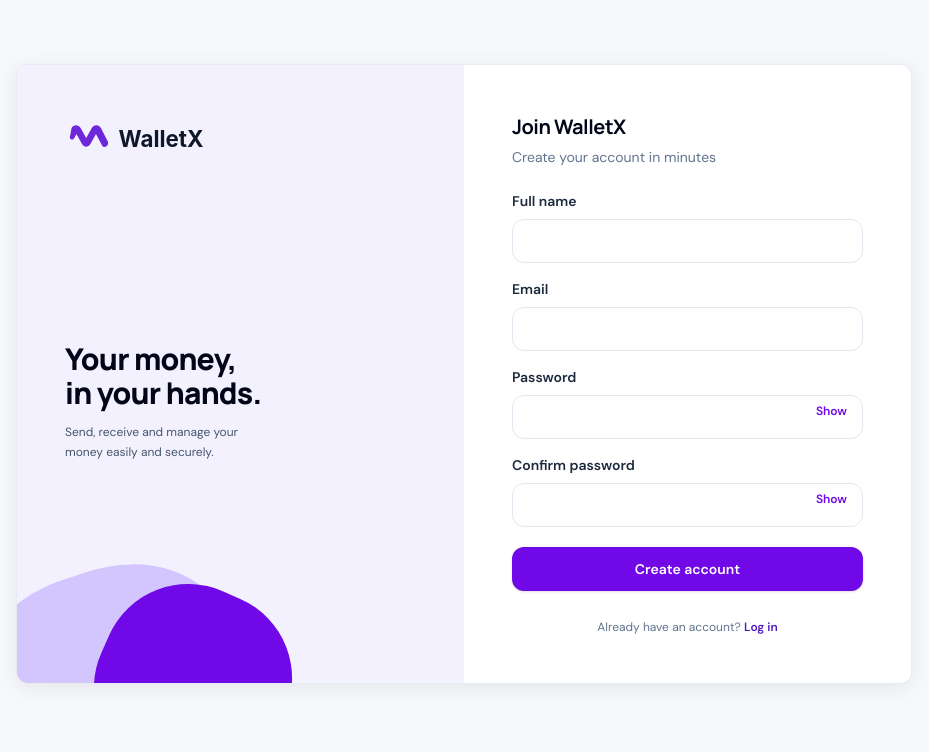
Test: RegisterPage › shows required and matching-password validation errors
Click the button "Create account".
click(688, 569)  # box [512, 547, 863, 591]
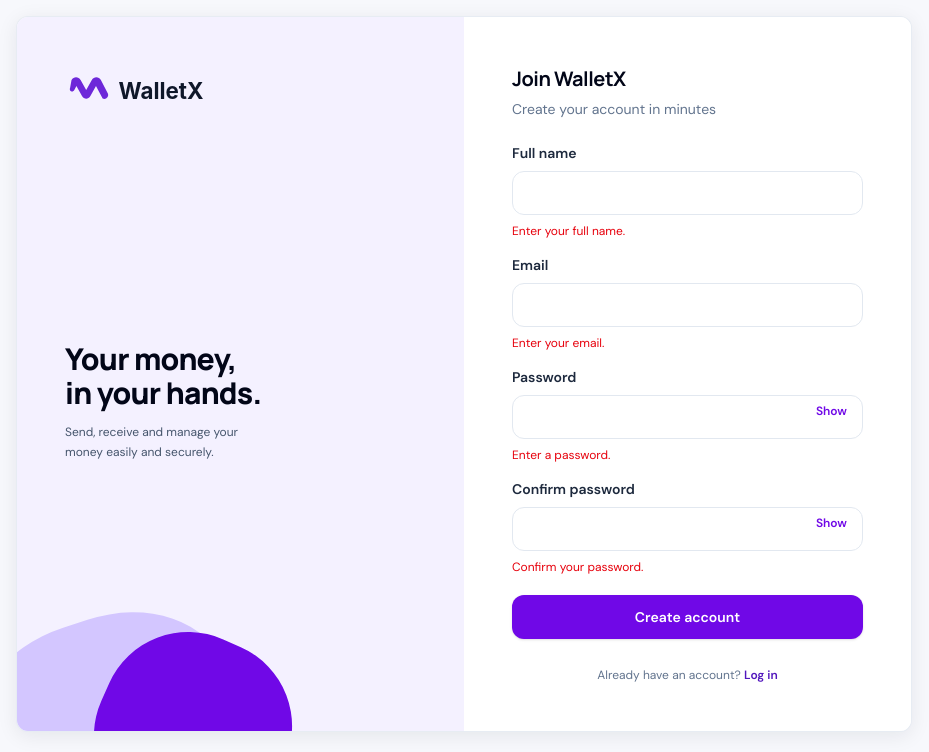
Check: the text "Enter your full name." is shown, box [512, 223, 625, 239]
Check: the text "Enter your email." is shown, box [512, 335, 604, 351]
Check: the text "Enter a password." is shown, box [512, 447, 610, 463]
Type "Kiran" into the field labelled "Full name".
click(688, 193); type("Kiran")  # box [512, 171, 863, 215]
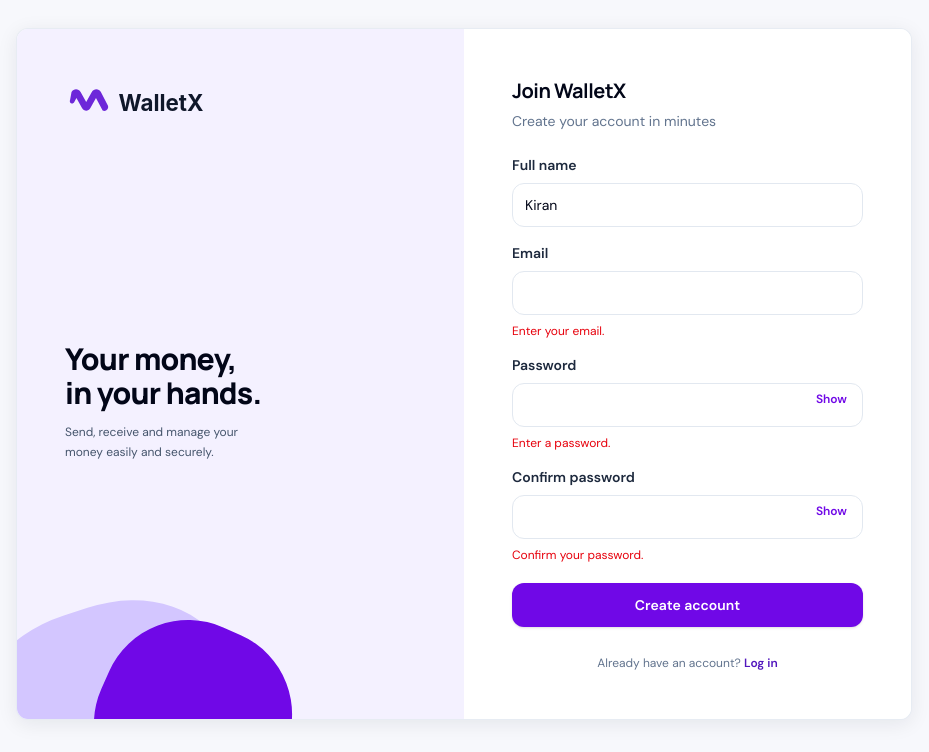
Type "kiran@example.com" into the field labelled "Email".
click(688, 293); type("kiran@example.com")  # box [512, 271, 863, 315]
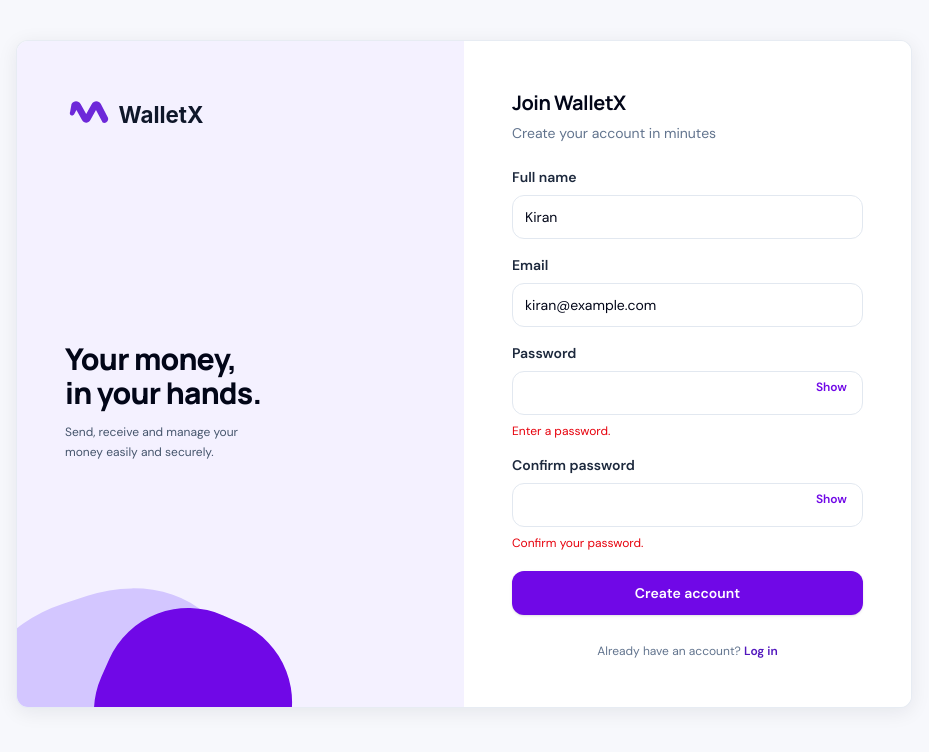
Type "password" into the password field labelled "Password".
click(688, 393); type("password")  # box [512, 371, 863, 415]
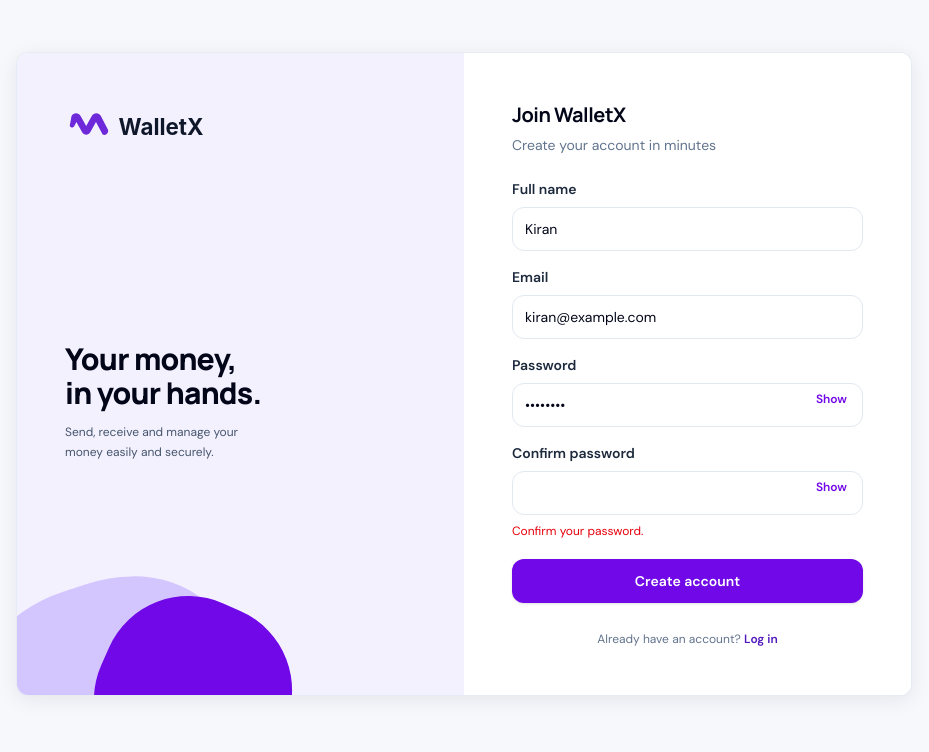
Type "different" into the password field labelled "Confirm password".
click(688, 493); type("different")  # box [512, 471, 863, 515]
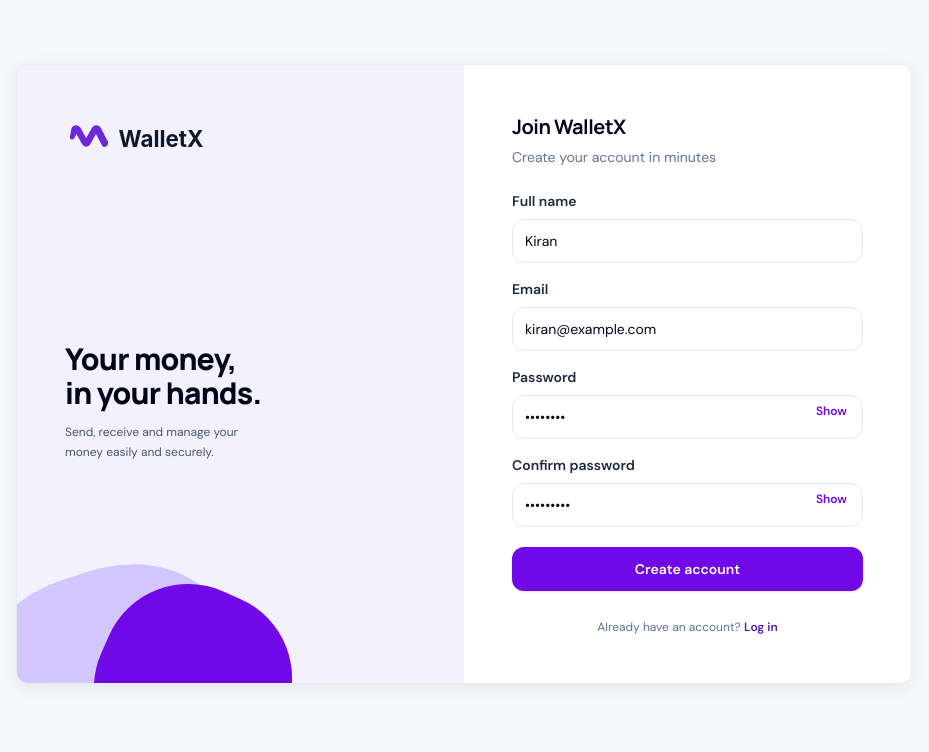
Click the button "Create account".
click(688, 569)  # box [512, 547, 863, 591]
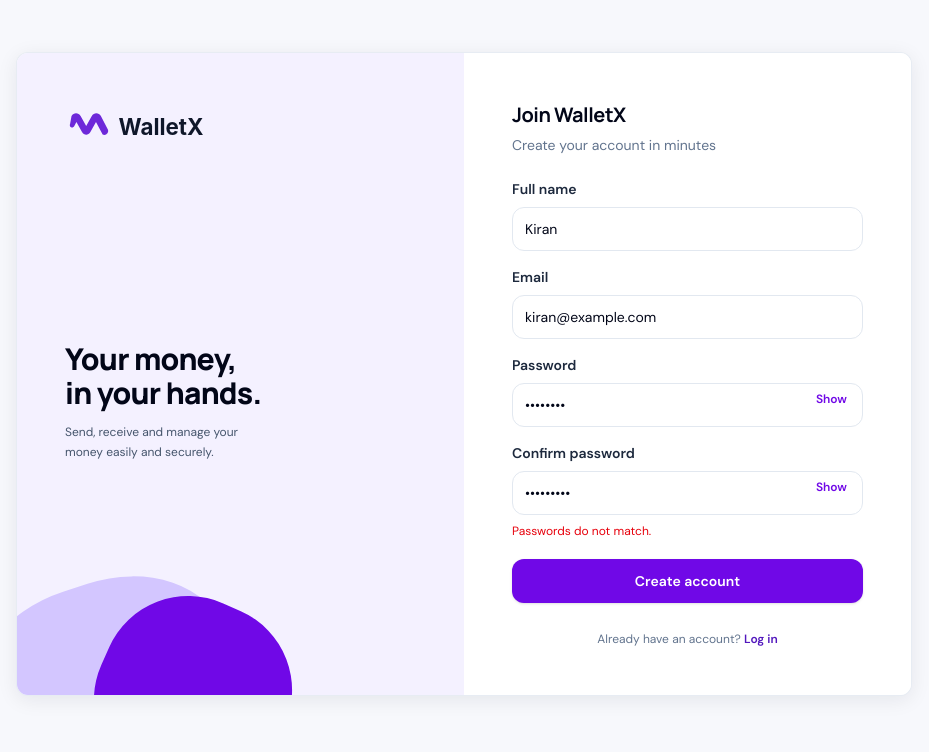
Check: the text "Passwords do not match." is shown, box [512, 523, 651, 539]
